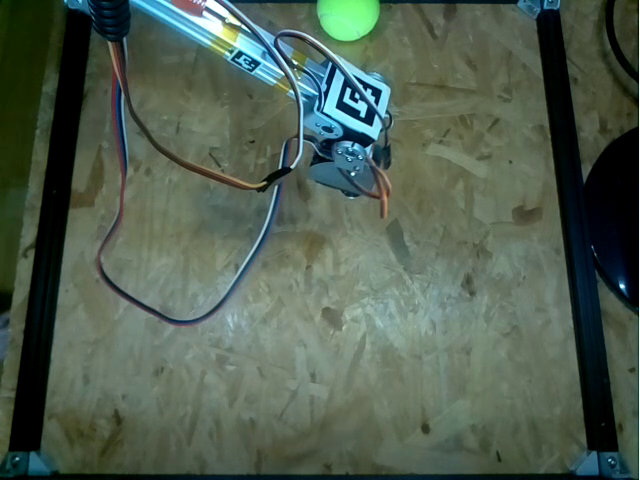tennis_ball: (317, 1, 379, 40)
